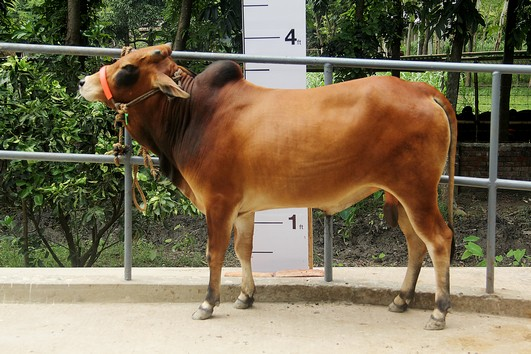cow: (73, 29, 458, 335)
